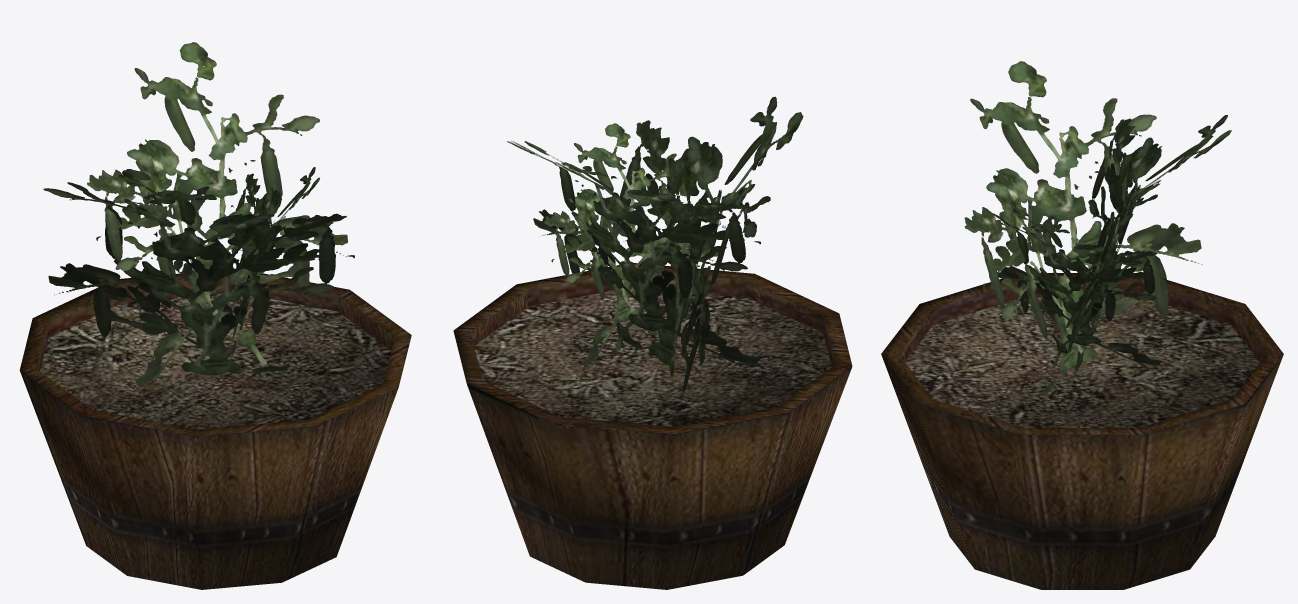
File: GS_NATURE_PLANTPOT_02_GALI.glb
The picture shows the model from 3 angles, left to right: view 1: azimuth 30°, elevation 25°; view 2: azimuth 150°, elevation 25°; view 3: azimuth 270°, elevation 25°; orthographic projection.
Parts seen in each view (by area): view 1: Mesh; view 2: Mesh; view 3: Mesh.
Part boxes in pixels (x1,y1,x2,y2): Mesh: (19,42,411,589); Mesh: (453,96,852,589); Mesh: (881,61,1283,589).
Size of the model in its own units: 0.3053 by 0.362 by 0.3009.
Materials: 2 (2 with a texture image).
